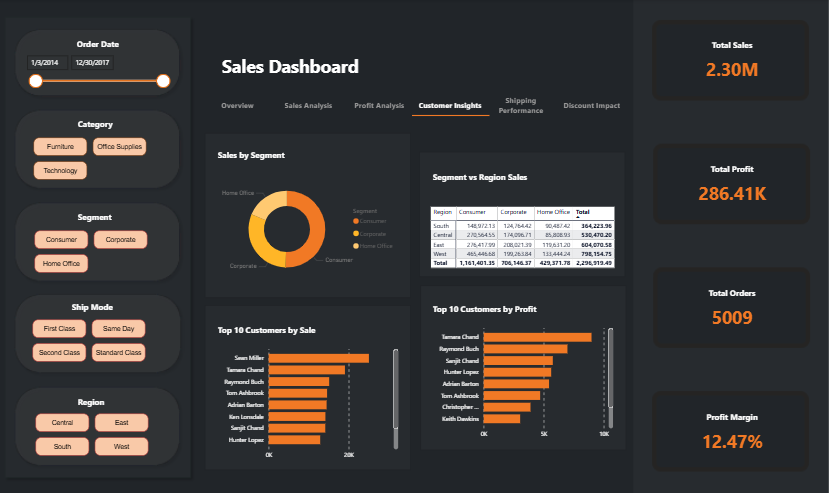

What the dashboard file says about the page in this screenshot:
{"tool":"powerbi","page":{"name":"Customer Insights","canvas":[1500,900],"ordinal":3},"visuals":[{"type":"textbox","box":[396,94,272,68],"z":0},{"type":"slicer","fields":{"Values":["DimOrder.Order Date"]},"box":[35.6,91.6,280,78.9],"z":1000},{"type":"ChicletSlicer1448559807354","fields":{"Category":["DimCategory.Category"]},"box":[51.5,240.2,244,102],"z":2000},{"type":"textbox","box":[133.3,64.9,206.7,35.6],"z":3000},{"type":"textbox","box":[135.5,210.2,208,36],"z":4000},{"type":"ChicletSlicer1448559807354","fields":{"Category":["DimSegment.Segment"]},"box":[51.8,408.2,244.4,102.2],"z":5000},{"type":"textbox","box":[136.2,378.2,207.8,35.6],"z":6000},{"type":"ChicletSlicer1448559807354","fields":{"Category":["DimShipping.Ship Mode"]},"box":[49.1,569.8,244.4,102.2],"z":7000},{"type":"textbox","box":[124.2,539.6,208,36],"z":8000},{"type":"ChicletSlicer1448559807354","fields":{"Category":["DimRegion.Region"]},"box":[54,740,244,102],"z":9000},{"type":"textbox","box":[136,712,208,36],"z":10000},{"type":"card","title":"Total Sales","fields":{"Values":["FactSales.Sales"]},"box":[1218,72,210,88],"z":11000},{"type":"card","title":"Total Profit","fields":{"Values":["FactSales.Profit"]},"box":[1218,296,210,88],"z":12000},{"type":"card","title":"Total Orders","fields":{"Values":["FactSales.Order ID"]},"box":[1218,520,210,88],"z":13000},{"type":"card","title":"Profit Margin","fields":{"Values":["FactSales.Profit Margin %"]},"box":[1218,744,210,88],"z":14000},{"type":"pageNavigator","box":[370,166,758,50],"z":15000},{"type":"shape","box":[744,182,140,56],"z":16000},{"type":"textbox","box":[388,582,280,38],"z":17000},{"type":"clusteredBarChart","fields":{"Category":["DimCustomer.Customer Name"],"Y":["FactSales.Sales"]},"box":[388,620,336,222],"z":18000},{"type":"textbox","box":[388,266,280,38],"z":19000},{"type":"donutChart","fields":{"Y":["FactSales.Sales"],"Category":["DimSegment.Segment"]},"box":[394,310,330,210],"z":20000},{"type":"textbox","box":[778,544,280,38],"z":21000},{"type":"clusteredBarChart","fields":{"Category":["DimCustomer.Customer Name"],"Y":["FactSales.Profit"]},"box":[778,582,336,222],"z":22000},{"type":"pivotTable","fields":{"Rows":["DimRegion.Region"],"Values":["FactSales.Sales"],"Columns":["DimSegment.Segment"]},"box":[774,370,360,130],"z":23000},{"type":"textbox","box":[778,306,280,38],"z":24000}]}

Visuals, with their boxes in screenshot pixels (x1, y1, x2, y2), scaled from the page's 1500x900 canvas onto the 829x494 screenshot:
textbox: select_region(219, 52, 369, 89)
slicer - DimOrder.Order Date: select_region(20, 50, 174, 94)
ChicletSlicer1448559807354 - DimCategory.Category: select_region(28, 132, 163, 188)
textbox: select_region(74, 36, 188, 55)
textbox: select_region(75, 115, 190, 135)
ChicletSlicer1448559807354 - DimSegment.Segment: select_region(29, 224, 164, 280)
textbox: select_region(75, 208, 190, 227)
ChicletSlicer1448559807354 - DimShipping.Ship Mode: select_region(27, 313, 162, 369)
textbox: select_region(69, 296, 184, 316)
ChicletSlicer1448559807354 - DimRegion.Region: select_region(30, 406, 165, 462)
textbox: select_region(75, 391, 190, 411)
"Total Sales" card: select_region(673, 40, 789, 88)
"Total Profit" card: select_region(673, 162, 789, 211)
"Total Orders" card: select_region(673, 285, 789, 334)
"Profit Margin" card: select_region(673, 408, 789, 457)
pageNavigator: select_region(204, 91, 623, 119)
shape: select_region(411, 100, 489, 131)
textbox: select_region(214, 319, 369, 340)
clusteredBarChart - DimCustomer.Customer Name x FactSales.Sales: select_region(214, 340, 400, 462)
textbox: select_region(214, 146, 369, 167)
donutChart - FactSales.Sales x DimSegment.Segment: select_region(218, 170, 400, 285)
textbox: select_region(430, 299, 585, 319)
clusteredBarChart - DimCustomer.Customer Name x FactSales.Profit: select_region(430, 319, 616, 441)
pivotTable - DimRegion.Region x FactSales.Sales: select_region(428, 203, 627, 274)
textbox: select_region(430, 168, 585, 189)
